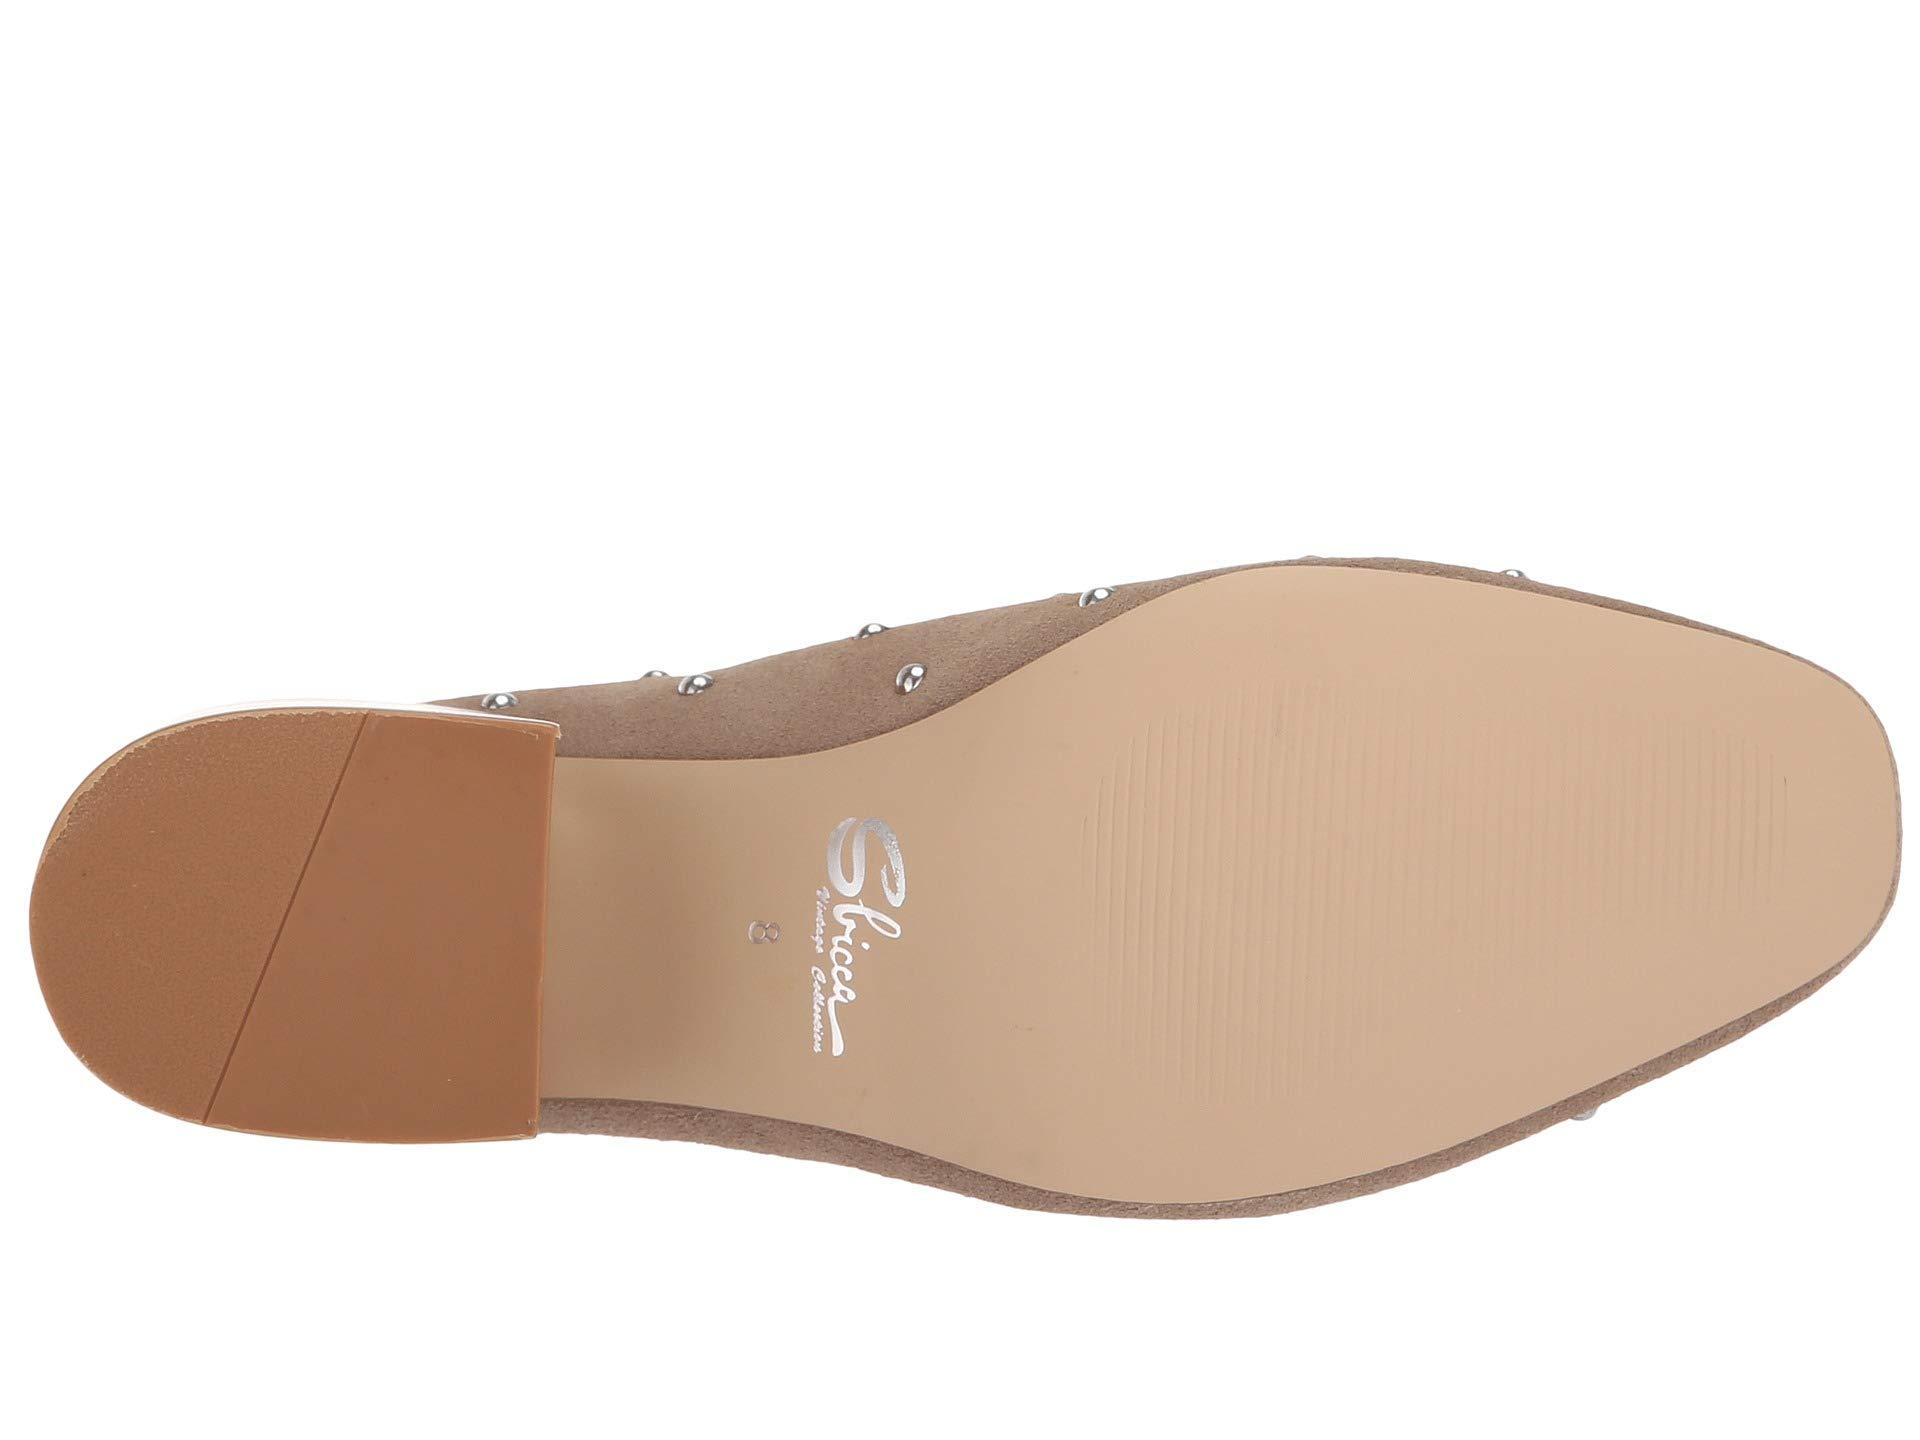line: (1070, 658, 1482, 1106), (119, 749, 441, 1125), (1507, 697, 1813, 945)
